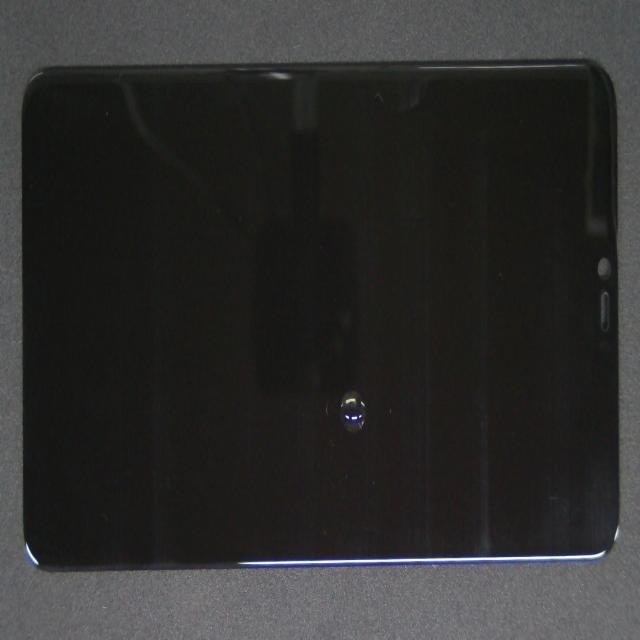oil: (182, 167, 516, 584)
